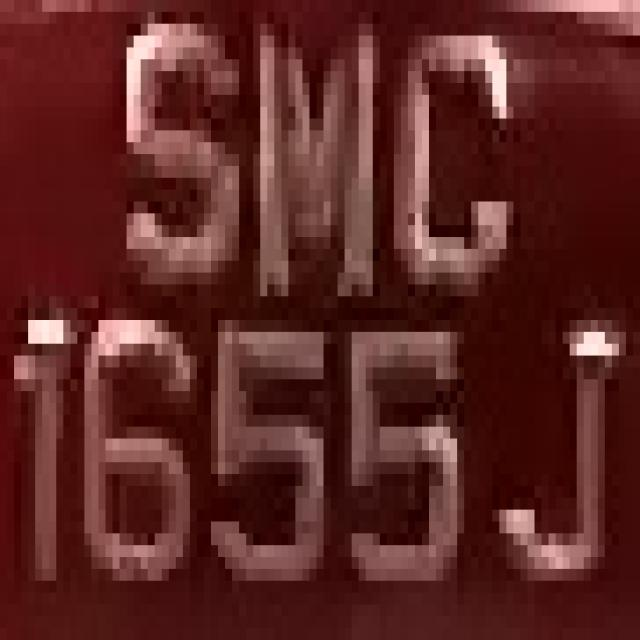1: (7, 249, 70, 581)
5: (190, 272, 330, 592), (345, 308, 485, 581)
6: (77, 260, 183, 592)
C: (387, 24, 534, 320)
J: (485, 308, 619, 593)
M: (239, 24, 380, 308)
S: (106, 36, 246, 284)
